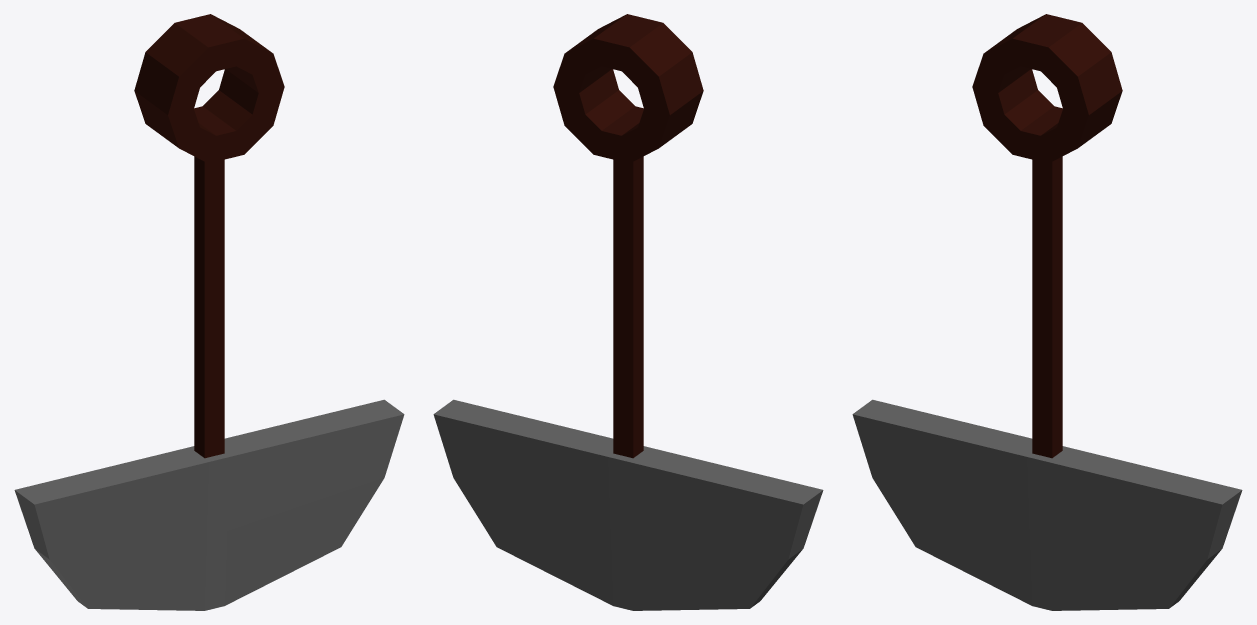
Rendered from bijl.fbx.
3 views of the same model, side by side, from view 1: azimuth 30°, elevation 25°; view 2: azimuth 150°, elevation 25°; view 3: azimuth 330°, elevation 25° (orthographic).
Visible parts, largest first — view 1: Cylinder; view 2: Cylinder; view 3: Cylinder.
Part boxes in pixels (x1=…): Cylinder: x1=14, y1=14, x2=404, y2=610; Cylinder: x1=433, y1=14, x2=823, y2=610; Cylinder: x1=852, y1=14, x2=1242, y2=610.
Bounding box in the file's own units: 4.44 × 6.58 × 0.7.
